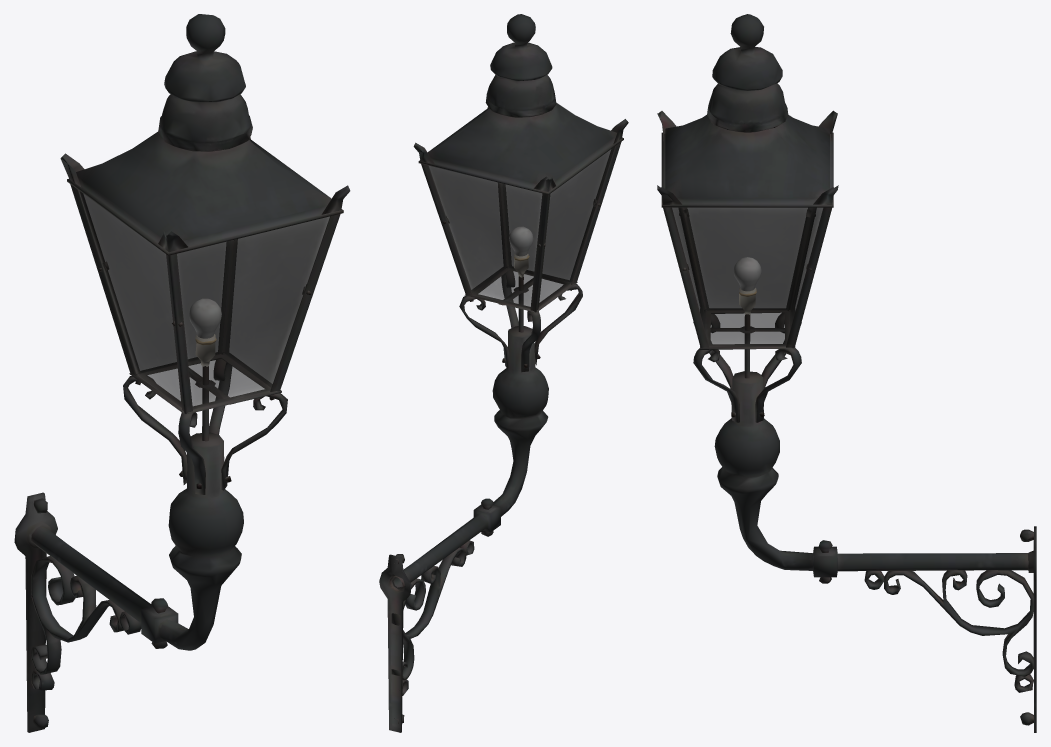
File: street_lamp.glb
3 renders of one model, left to right at view 1: azimuth 30°, elevation 25°; view 2: azimuth 150°, elevation 25°; view 3: azimuth 270°, elevation 25°, orthographic. The views are drawn at different scales.
Visible parts, largest first — view 1: street_lamp_02; view 2: street_lamp_02; view 3: street_lamp_02.
Part boxes in pixels (left/top/right/bottom): street_lamp_02: left=14, top=14, right=350, bottom=732; street_lamp_02: left=379, top=14, right=628, bottom=732; street_lamp_02: left=657, top=14, right=1036, bottom=732.
Bounding box in the file's own units: 0.3849 × 1.67 × 0.8053.
2 materials, 2 textured.
